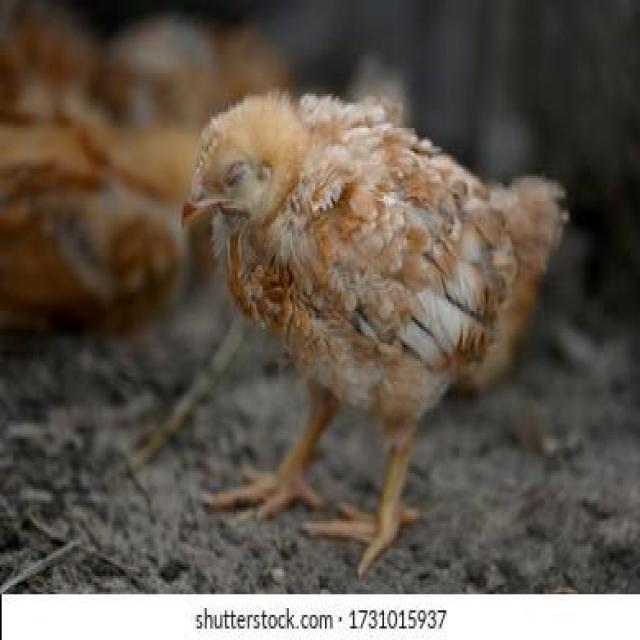poussin: (180, 93, 572, 572)
